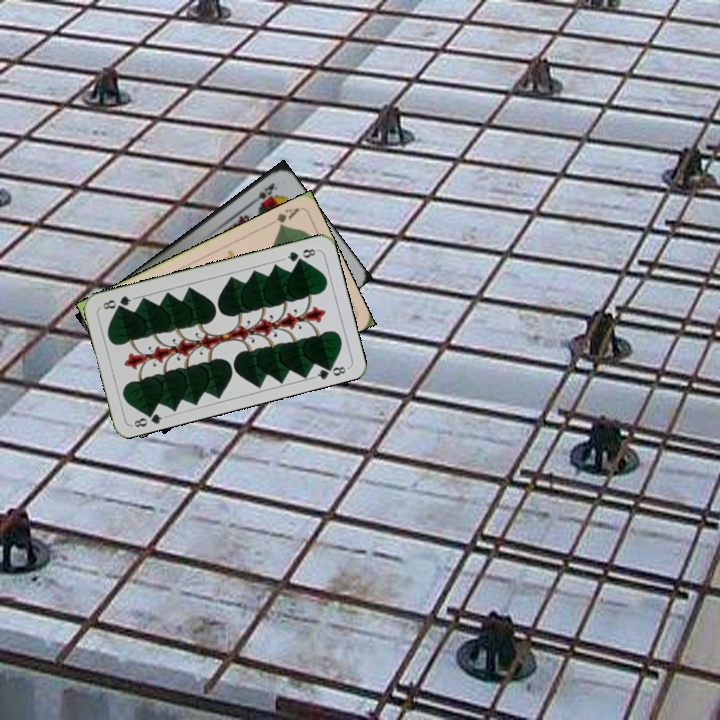G8: (128, 406, 168, 430), (280, 245, 320, 265)
GA: (272, 203, 302, 231)
SK: (246, 178, 281, 208)
